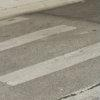Crosswalk: (5, 18, 99, 99)
